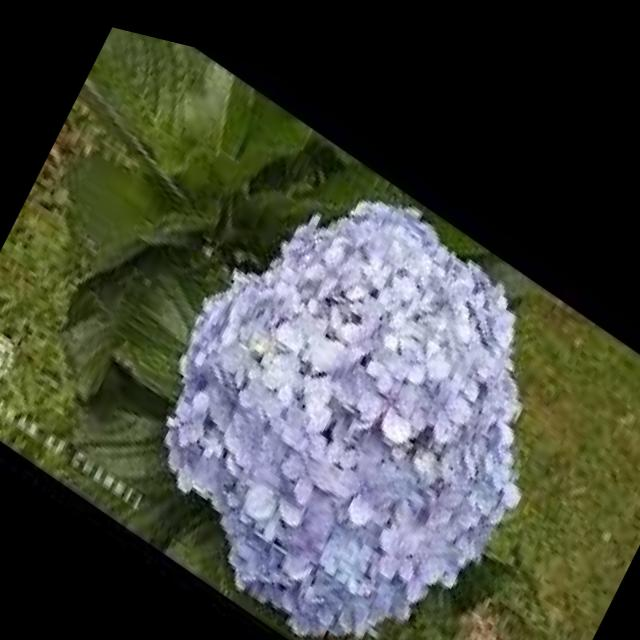Flower: (107, 77, 603, 640)
